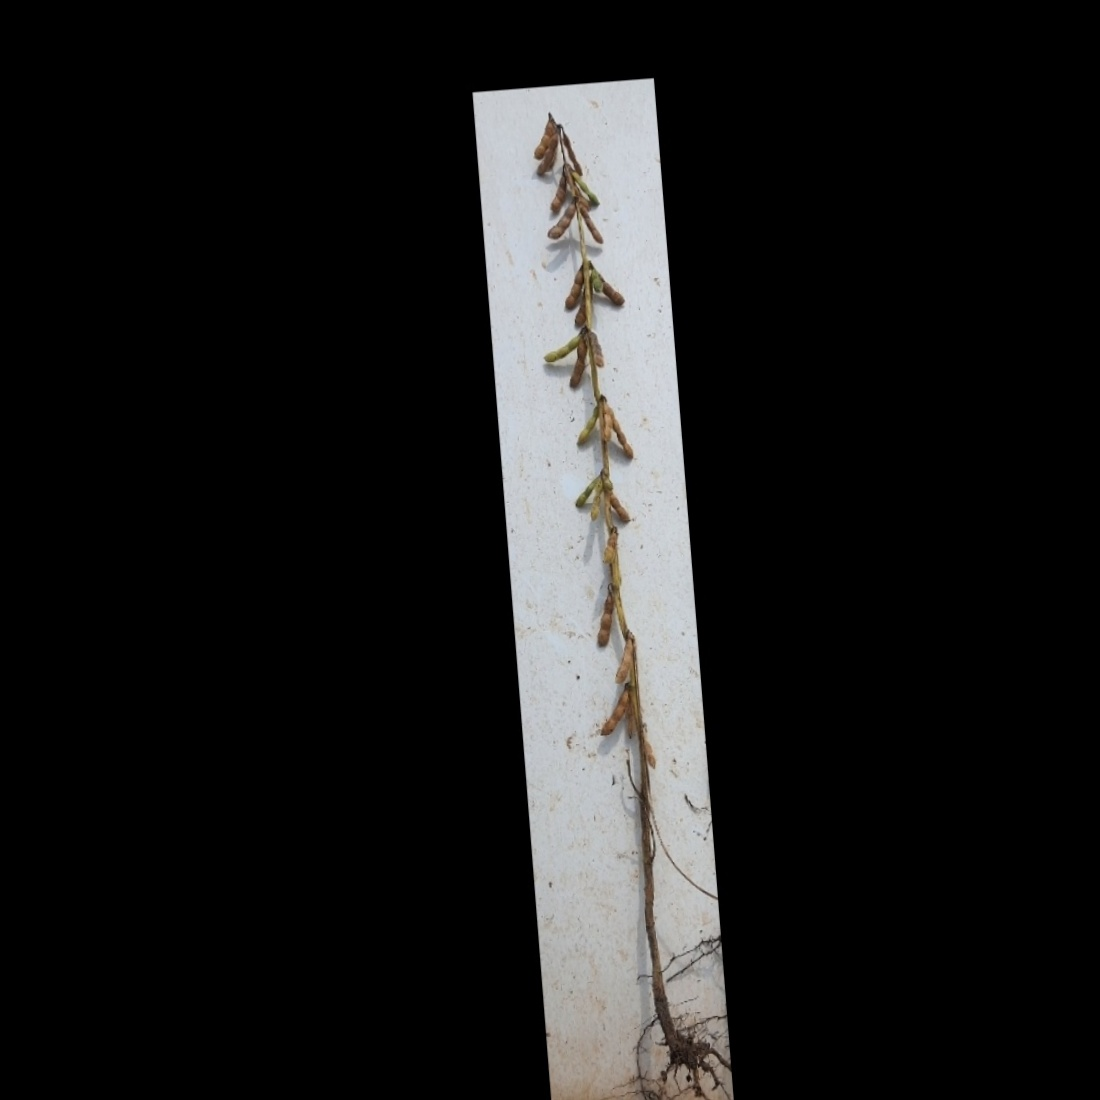pod: (594, 691, 632, 740), (554, 262, 587, 310), (592, 589, 617, 651), (540, 203, 580, 242), (540, 329, 587, 362), (565, 339, 593, 392), (572, 401, 602, 449), (609, 634, 637, 686), (610, 409, 635, 464), (578, 207, 607, 250), (560, 128, 582, 178), (546, 168, 570, 213), (573, 169, 599, 207), (587, 482, 609, 522), (608, 487, 632, 525), (641, 738, 659, 773)
soy: (497, 103, 714, 1100)
